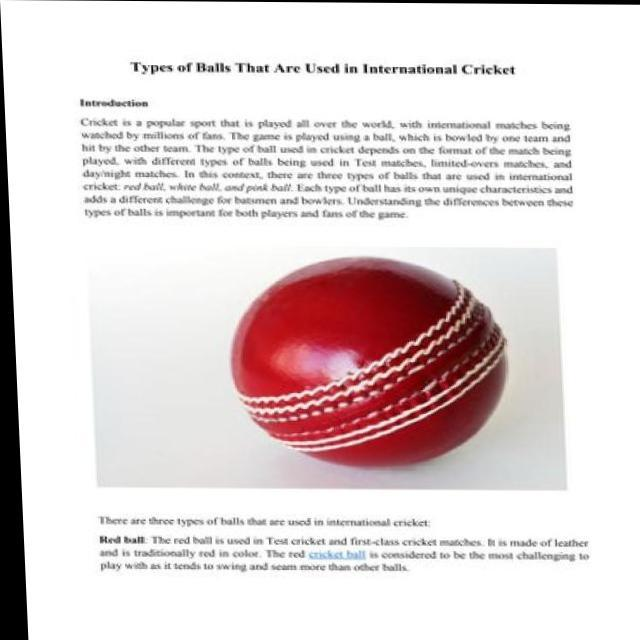cricket ball: (225, 255, 504, 468)
